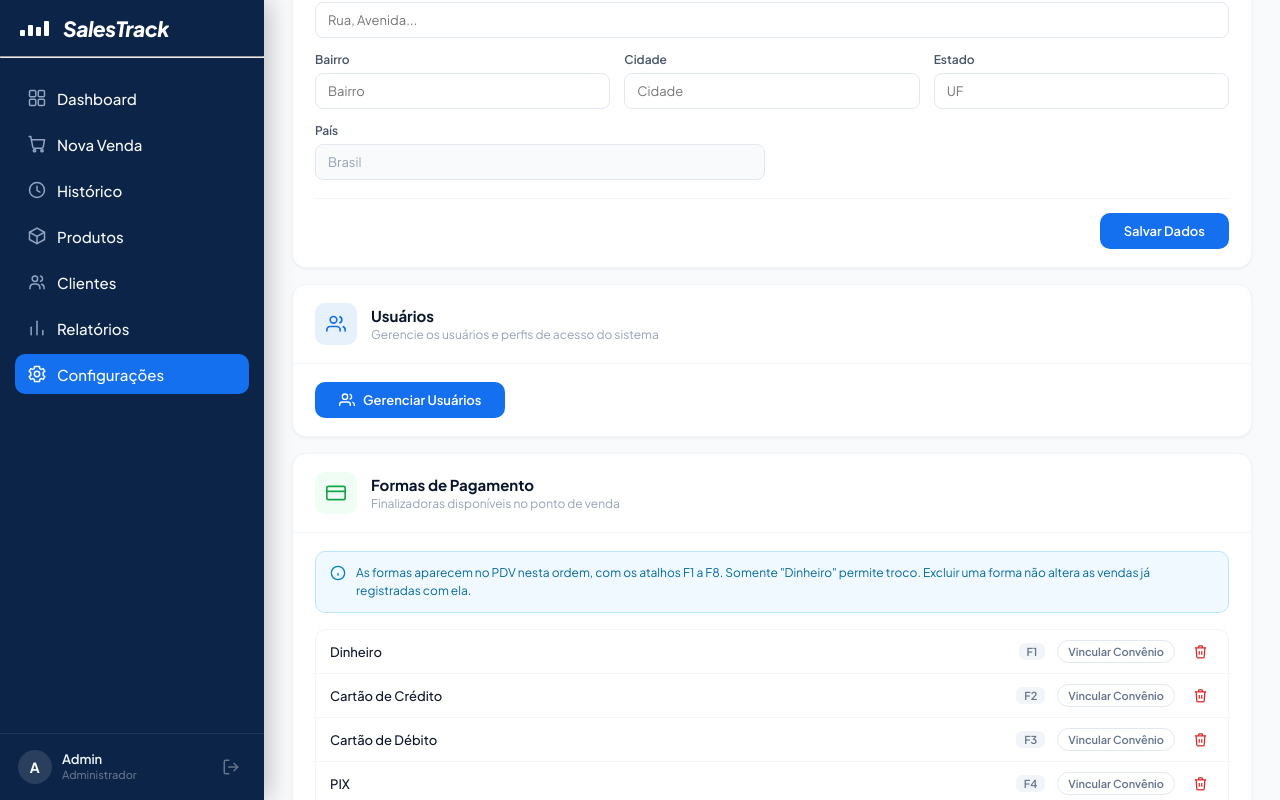
Test: Página de Configurações › deve abrir o modal de usuários ao clicar no botão Gerenciar Usuários
(page scrolled)
Click the button "Gerenciar Usuários".
click(410, 400)  # box [315,382,506,418]
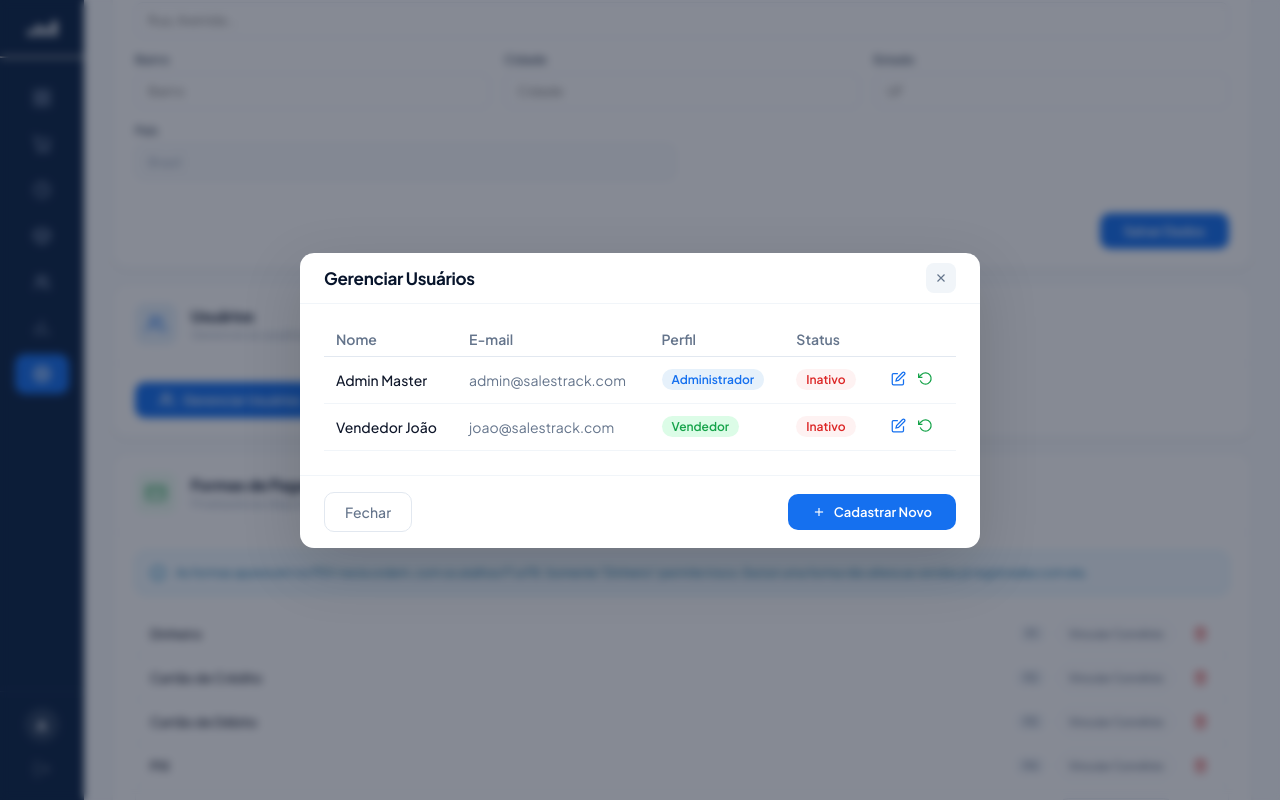
Expected: the text "Admin Master" is shown, [324,356,457,403]
Expected: the text "Vendedor João" is shown, [324,403,457,450]
